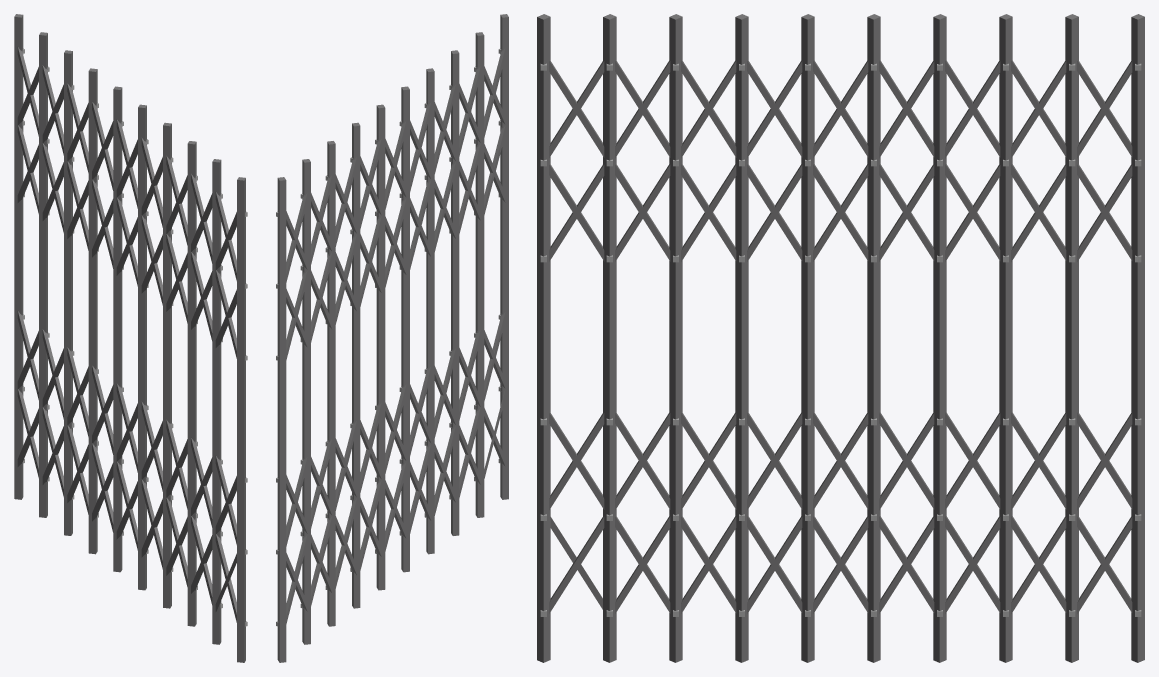
File: SM_rolledBars_01.gltf
3 views of the same model, side by side, from view 1: azimuth 30°, elevation 25°; view 2: azimuth 150°, elevation 25°; view 3: azimuth 270°, elevation 25° (orthographic). The views are drawn at different scales.
Parts seen in each view (by area): view 1: SM_rolledBars_01; view 2: SM_rolledBars_01; view 3: SM_rolledBars_01.
Boxes of the visible parts, <box> form: SM_rolledBars_01: <box>14,14,247,662</box>; SM_rolledBars_01: <box>276,14,508,662</box>; SM_rolledBars_01: <box>537,14,1144,662</box>.
Bounding box in the file's own units: 0.0429 × 2.15 × 1.84.
1 material, 1 textured.
